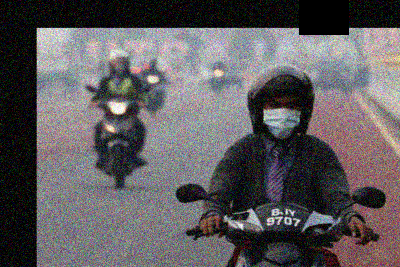with_mask: (263, 97, 301, 138)
